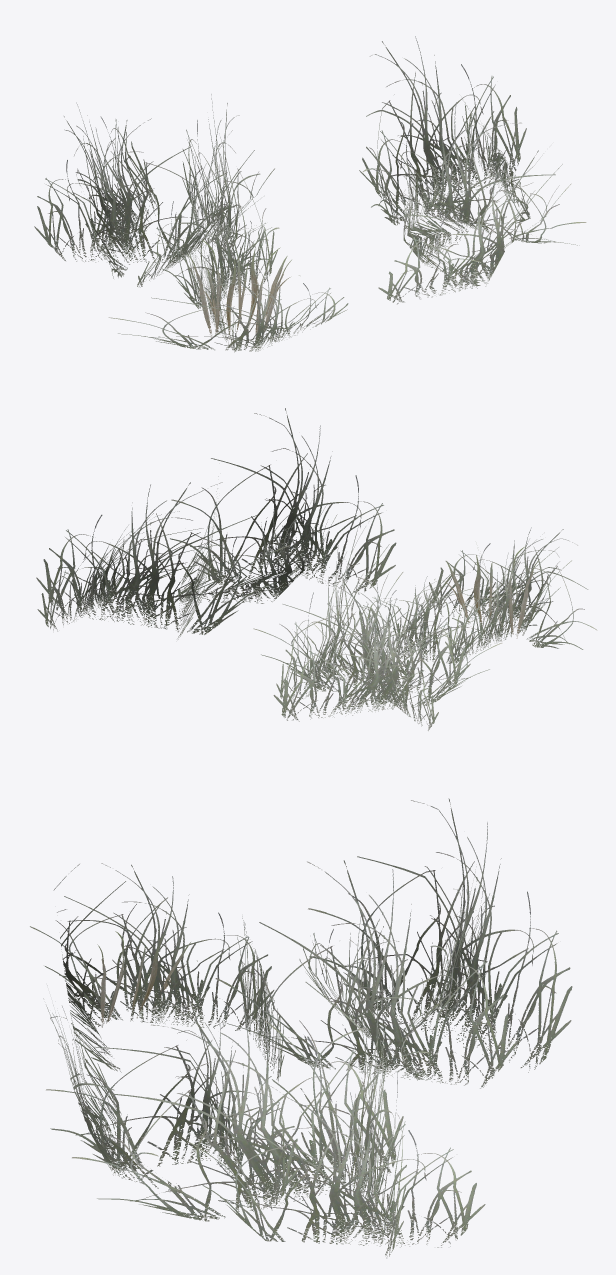
File: prop_tall_grass_ba.FBX
The picture shows the model from 3 angles, top to bottom: view 1: azimuth 30°, elevation 25°; view 2: azimuth 150°, elevation 25°; view 3: azimuth 270°, elevation 25°; orthographic projection. The views are drawn at different scales.
Visible parts, largest first — view 1: prop_tall_grass_ba; view 2: prop_tall_grass_ba; view 3: prop_tall_grass_ba.
Part boxes in pixels (x1=…): prop_tall_grass_ba: x1=34, y1=36, x2=586, y2=352; prop_tall_grass_ba: x1=36, y1=408, x2=597, y2=730; prop_tall_grass_ba: x1=30, y1=798, x2=572, y2=1258.
Size of the model in its own units: 2.67 by 1.94 by 0.9639.
1 material, 1 textured.
